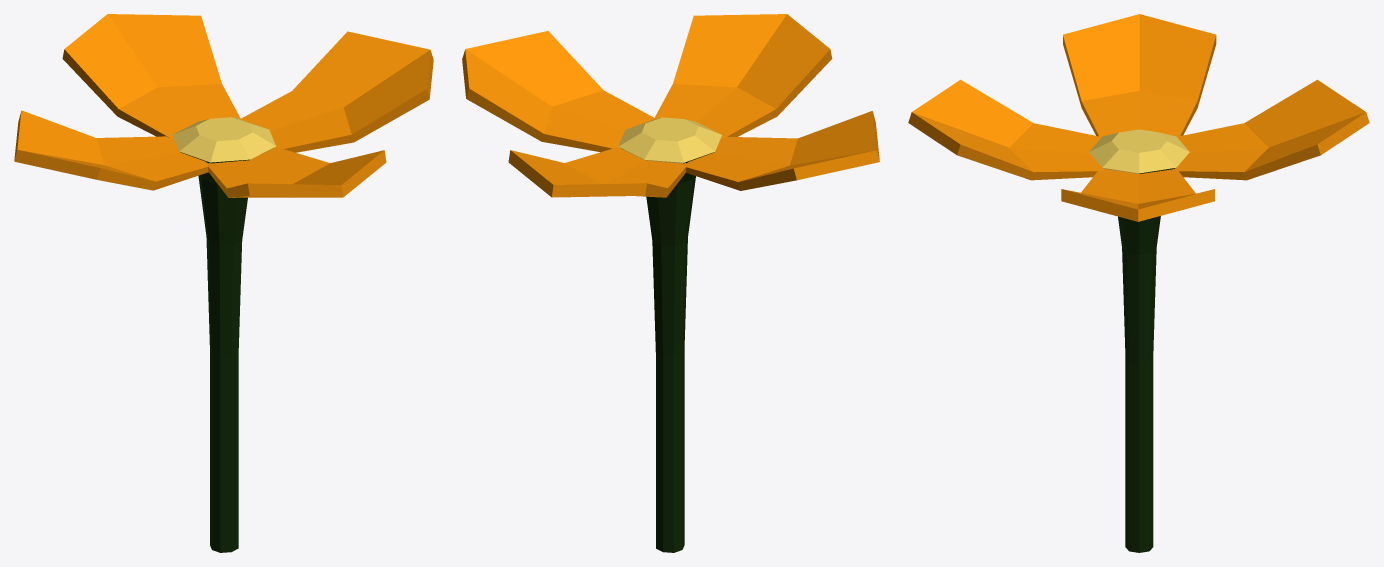
File: flower5.fbx
3 views of the same model, side by side, from view 1: azimuth 30°, elevation 25°; view 2: azimuth 150°, elevation 25°; view 3: azimuth 270°, elevation 25° (orthographic). The views are drawn at different scales.
Visible parts, largest first — view 1: Plane.001, Cube.043, Cube.044, Cube.045, Cube.046; view 2: Plane.001, Cube.046, Cube.044, Cube.045, Cube.043; view 3: Cube.045, Plane.001, Cube.046, Cube.043, Cube.044.
Boxes of the visible parts, x1,y1,x2,y2 form: Plane.001: (172, 117, 276, 552); Cube.043: (62, 14, 240, 138); Cube.044: (241, 31, 433, 152); Cube.045: (14, 110, 208, 190); Cube.046: (207, 147, 386, 197); Plane.001: (618, 117, 721, 552); Cube.046: (653, 14, 832, 138); Cube.044: (462, 31, 654, 152); Cube.045: (686, 111, 879, 190); Cube.043: (508, 147, 687, 197); Cube.045: (1063, 14, 1216, 136); Plane.001: (1089, 129, 1189, 552); Cube.046: (908, 79, 1106, 180); Cube.043: (1171, 79, 1369, 180); Cube.044: (1061, 169, 1214, 221).
Bounding box in the file's own units: 3343 × 3414 × 3283.
